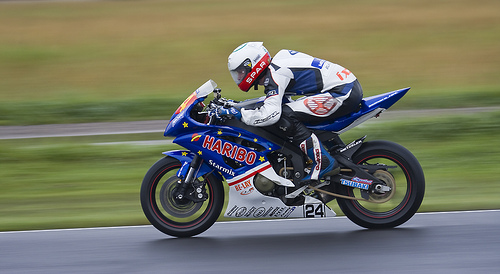helmet: (226, 39, 267, 87)
